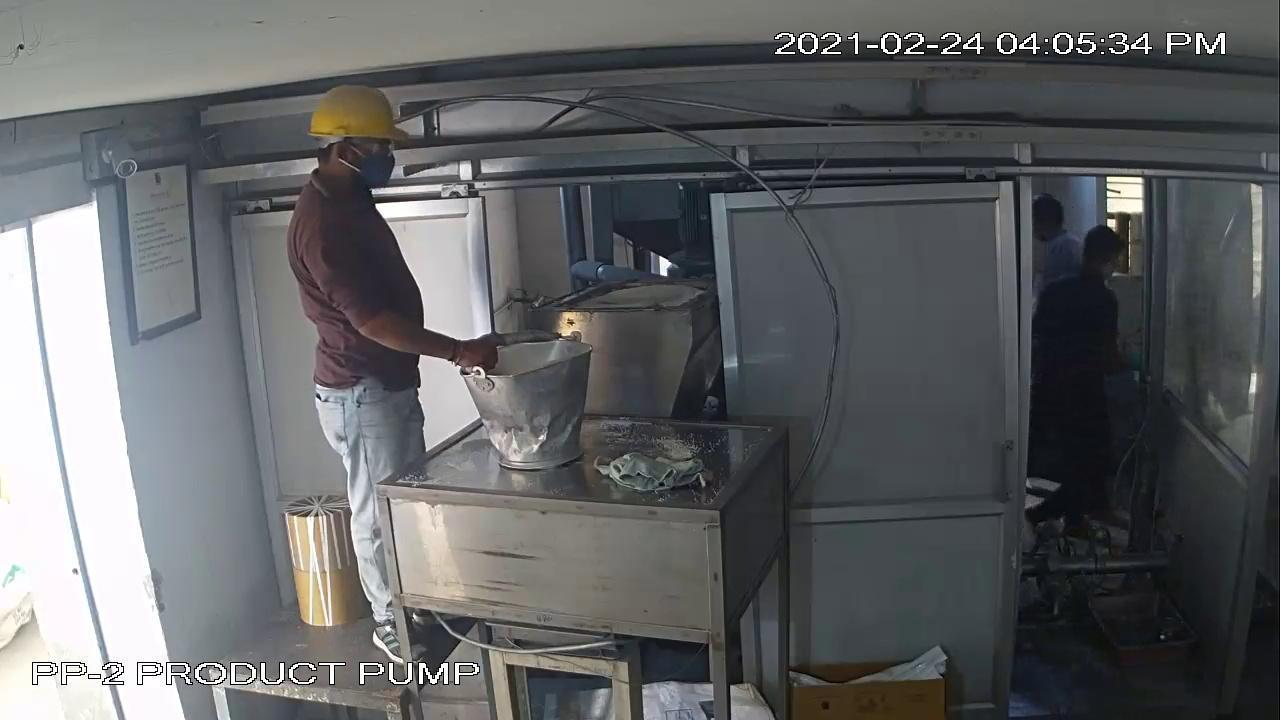helmet: (303, 79, 403, 149)
